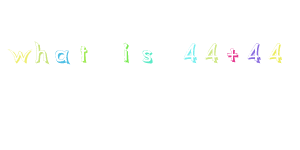+: (223, 43, 243, 69)
4: (177, 36, 201, 72), (202, 37, 223, 71), (243, 38, 266, 69), (266, 39, 287, 72)
a: (50, 45, 73, 67)
h: (33, 34, 51, 73)
i: (117, 38, 135, 69)
s: (136, 44, 159, 69)
t: (74, 39, 94, 67)
w: (5, 41, 33, 68)
